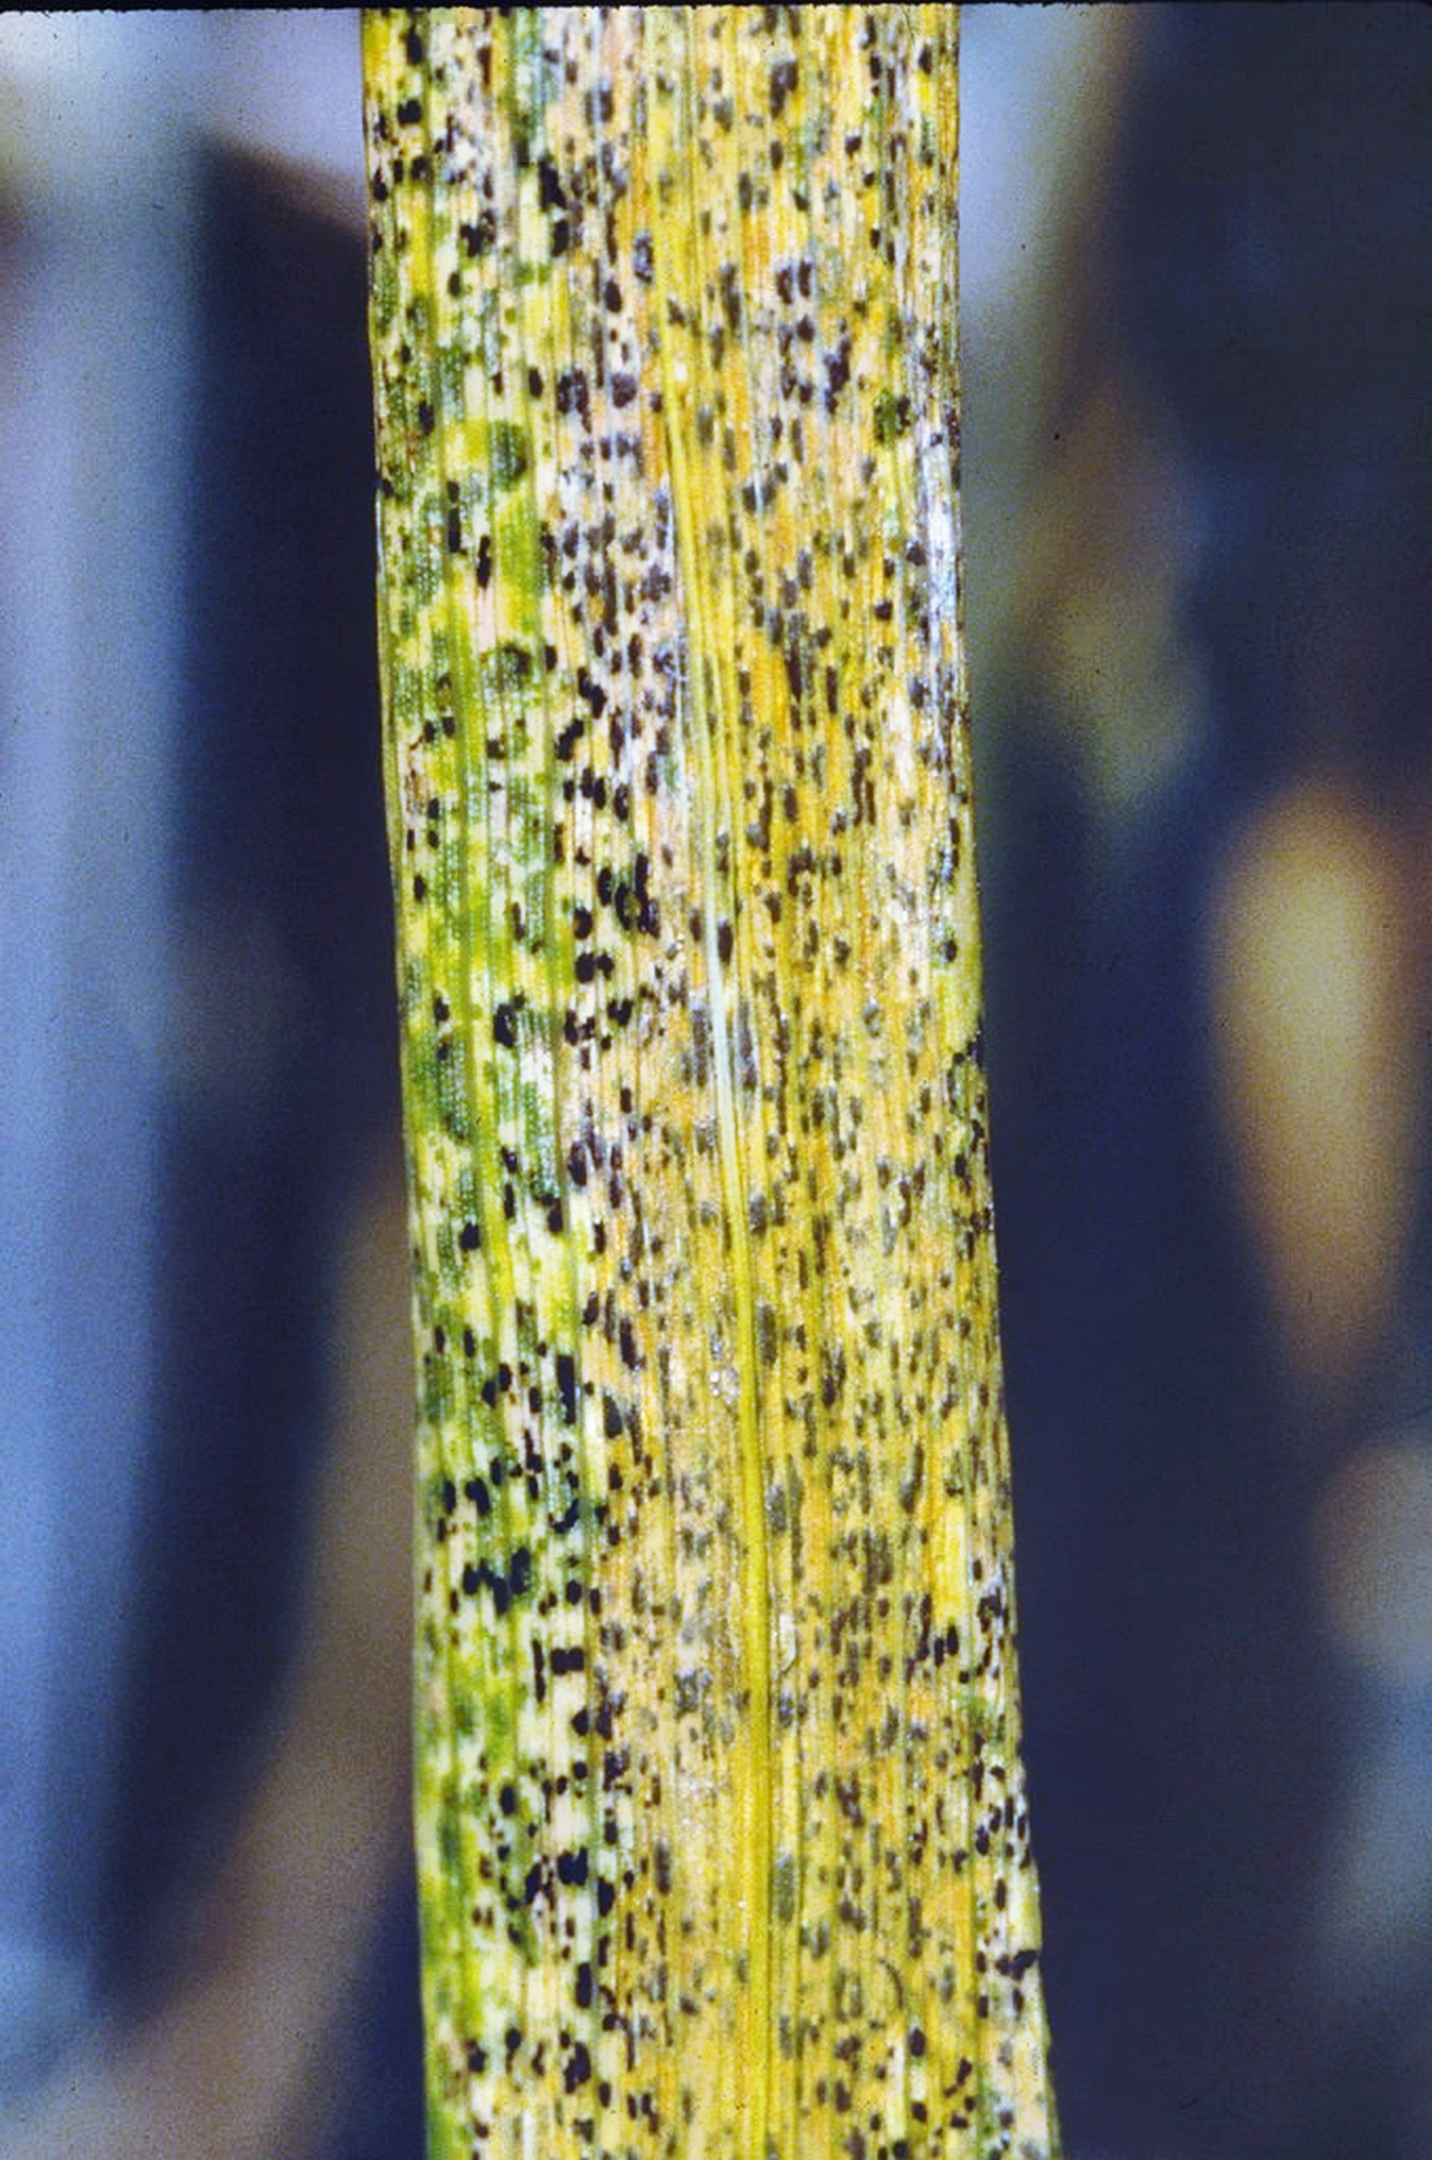Leaf Rust: (332, 29, 1071, 2112)
